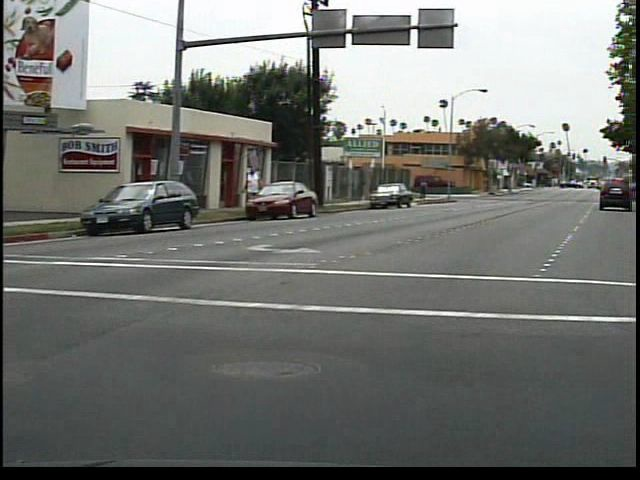person: (246, 160, 272, 215), (423, 177, 436, 203)
